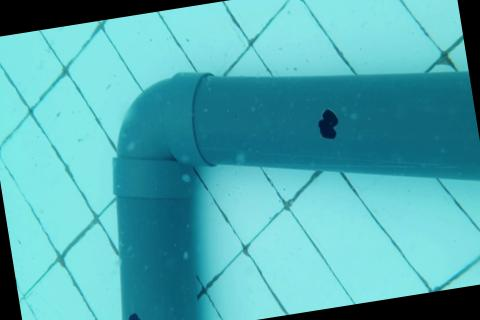kebocoran: (315, 107, 342, 142), (127, 310, 143, 320)
